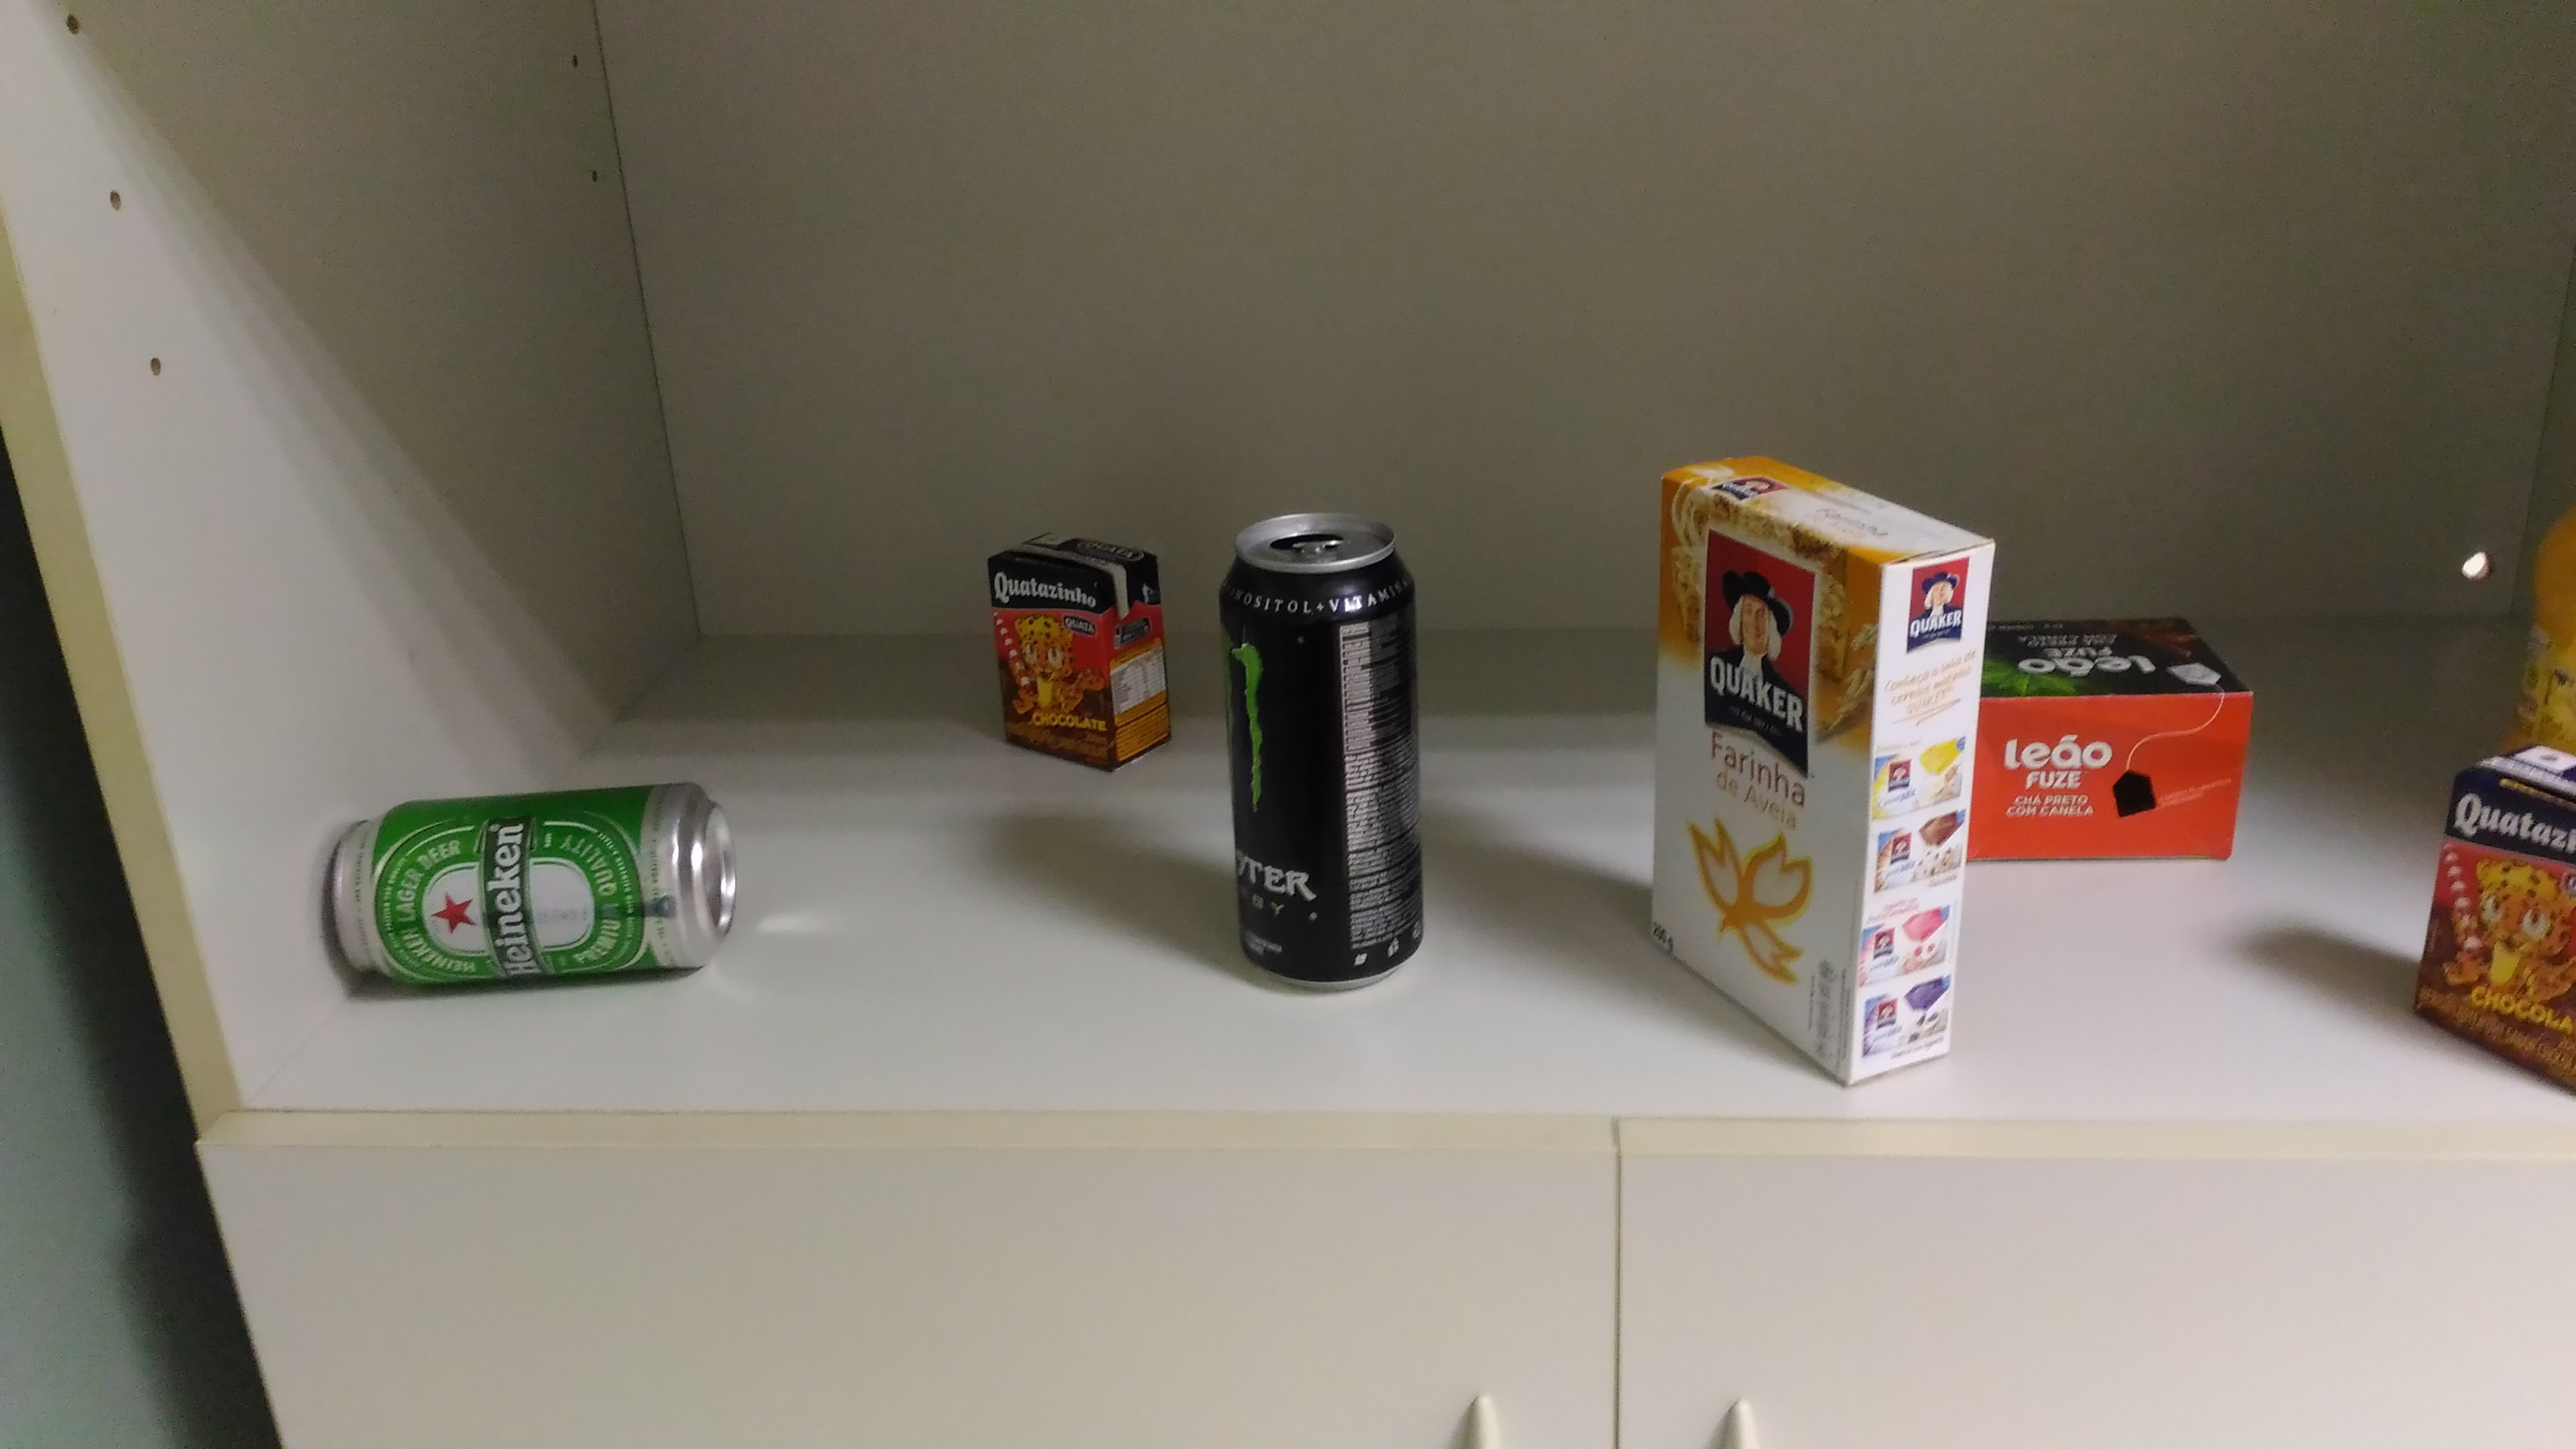cereal: (1637, 421, 1996, 1099)
chocolate_milk: (973, 511, 1184, 796)
heineken: (311, 771, 754, 1012)
monster: (1207, 488, 1440, 1012)
tea_box: (1973, 607, 2265, 883)
